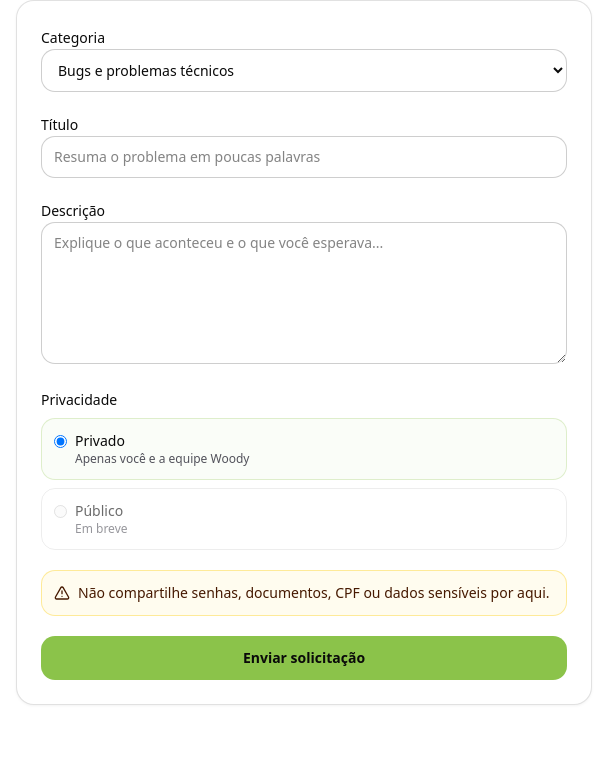
Test: SupportTicketForm › valida título curto
In the field labelled "Título": (304, 157) top-left (41, 136), bottom-right (567, 178), type "abc"
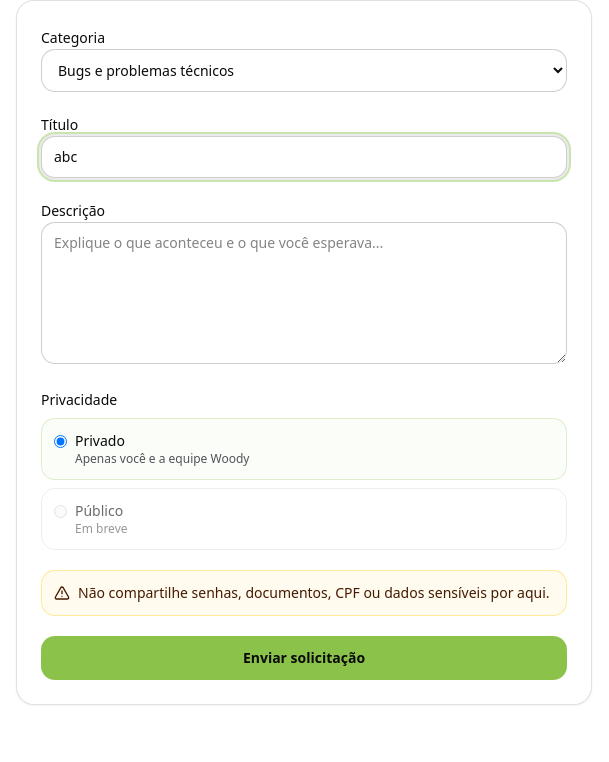
In the text box labelled "Descrição": (304, 293) top-left (41, 222), bottom-right (567, 364), type "Descrição com mais de vinte caracteres para validar."
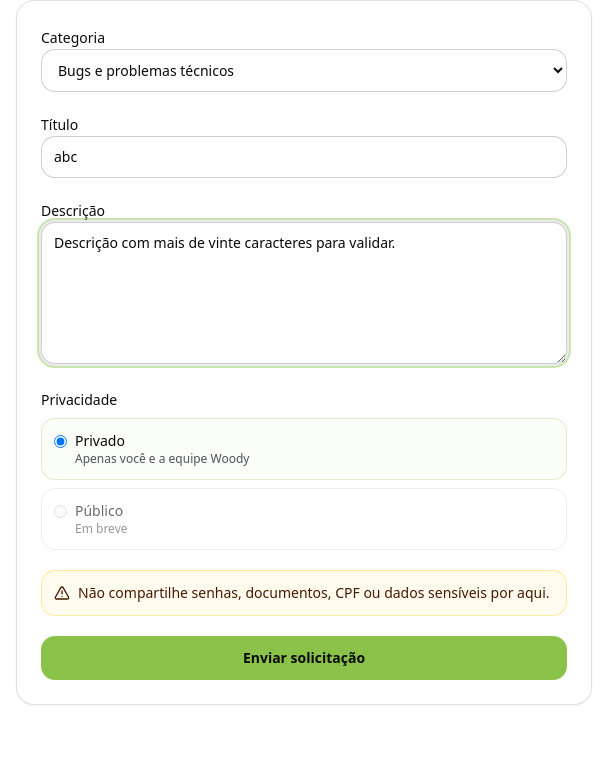
Click the button "Enviar solicitação": (304, 658) top-left (41, 636), bottom-right (567, 680)
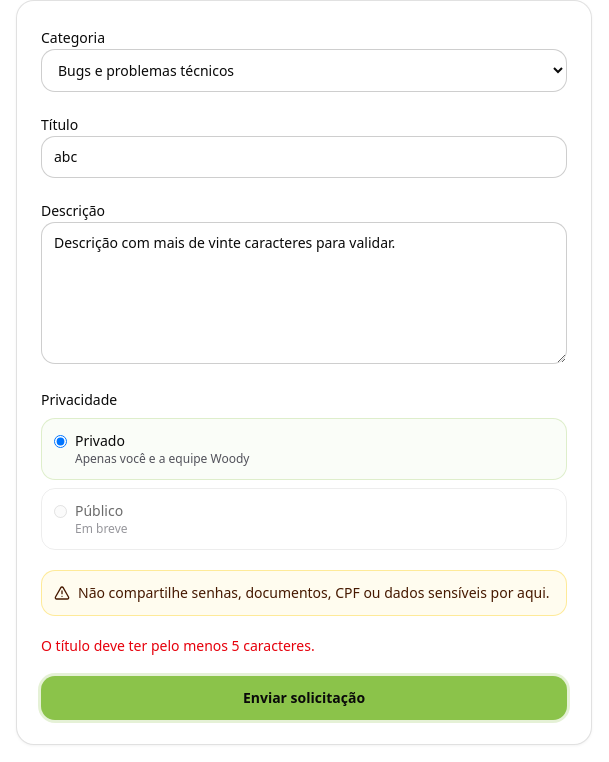
Expected: the message shows "pelo menos 5 caracteres", top-left (41, 636), bottom-right (315, 655)
